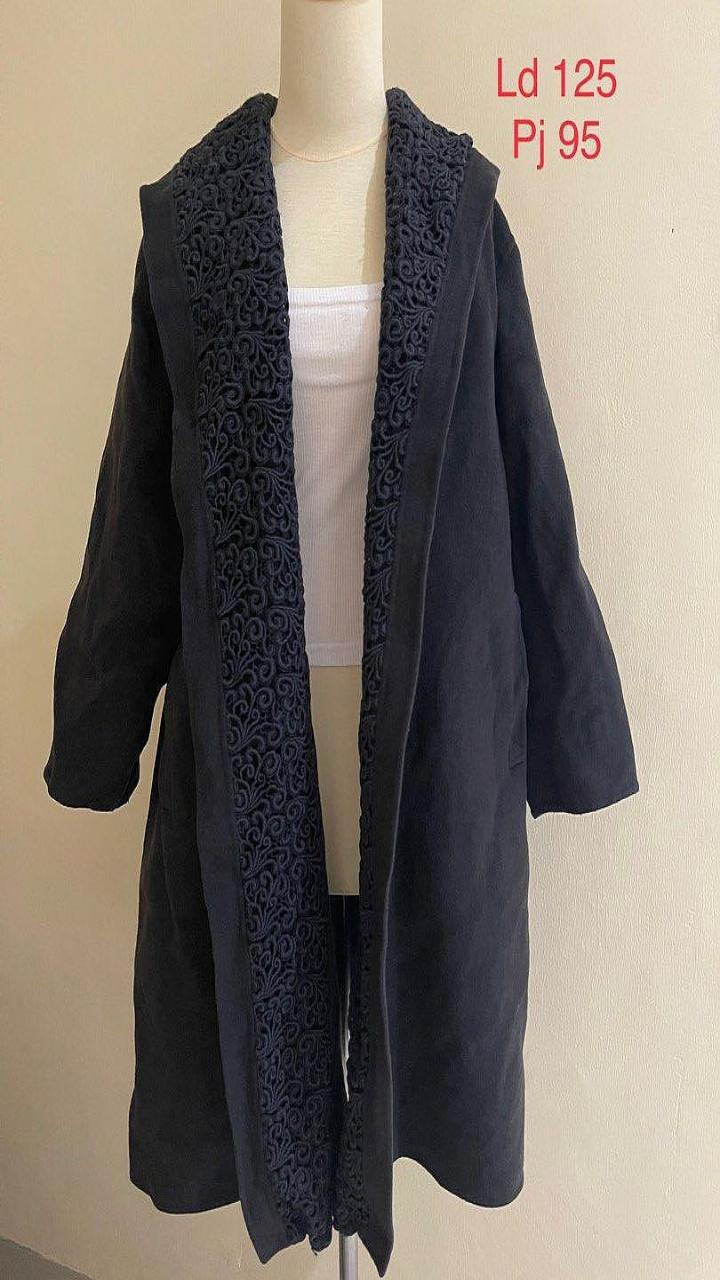Coat: (44, 87, 637, 1274)
